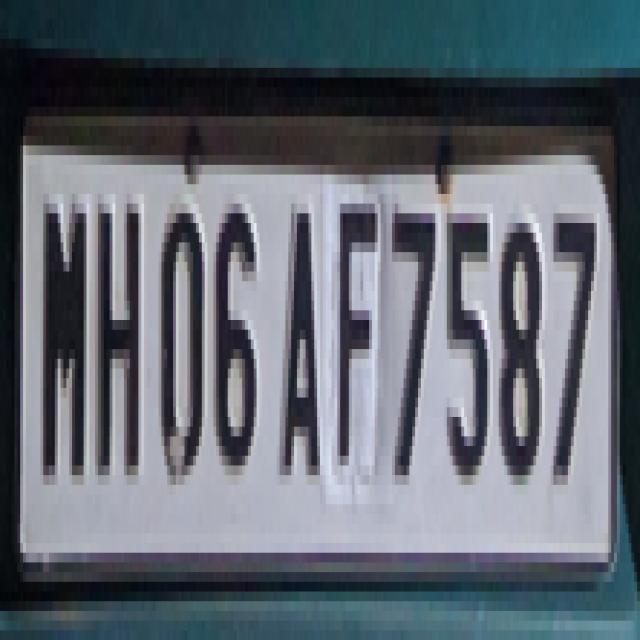0: (156, 205, 209, 483)
5: (446, 192, 496, 487)
6: (210, 197, 265, 478)
7: (388, 197, 442, 516), (550, 205, 602, 489)
8: (499, 212, 549, 476)
A: (273, 177, 328, 496)
F: (335, 182, 382, 496)
H: (95, 181, 151, 499)
M: (32, 173, 94, 495)
